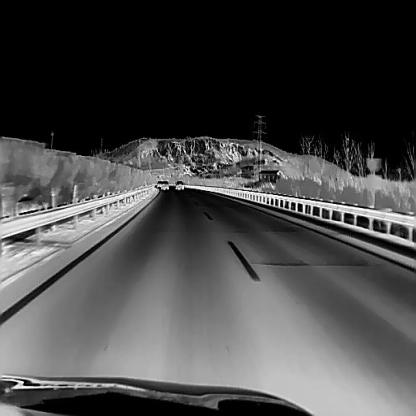car: (160, 179, 168, 189), (174, 180, 183, 188), (156, 180, 161, 186)
